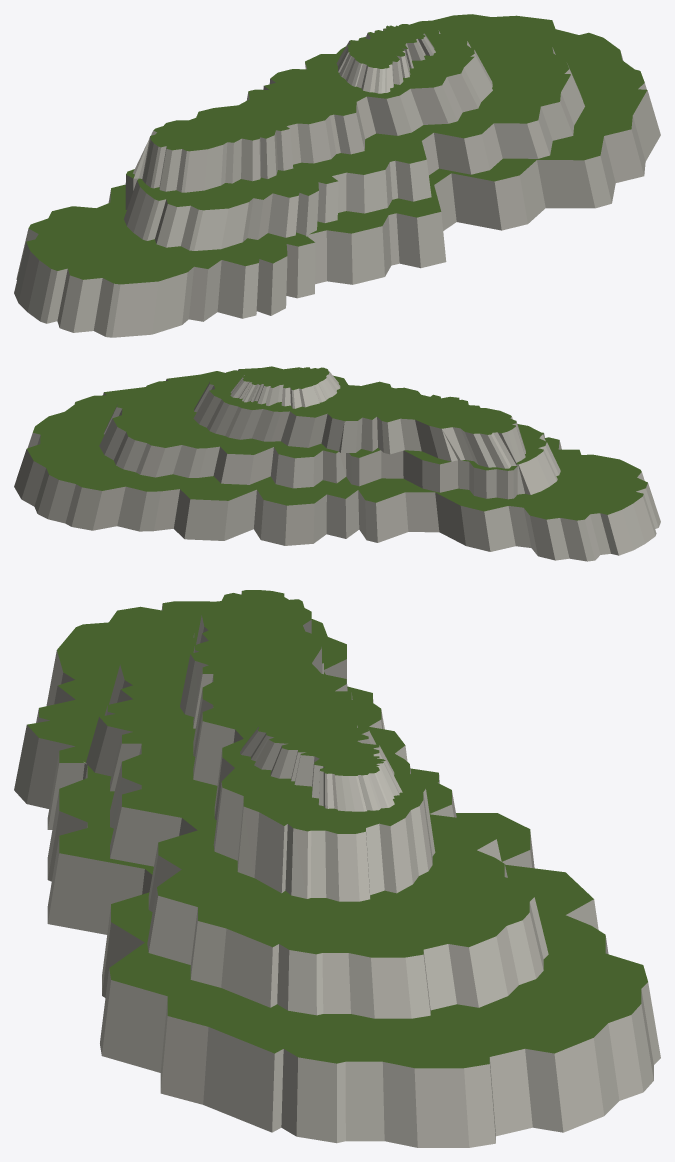
Rendered from Hill_Mound_Rock_01.fbx.
The picture shows the model from 3 angles, top to bottom: view 1: azimuth 30°, elevation 25°; view 2: azimuth 150°, elevation 25°; view 3: azimuth 270°, elevation 25°; orthographic projection. The views are drawn at different scales.
Parts seen in each view (by area): view 1: Model; view 2: Model; view 3: Model.
Part boxes in pixels (bbox=[...]): Model: bbox=[14, 14, 660, 337]; Model: bbox=[14, 366, 660, 561]; Model: bbox=[14, 590, 660, 1147].
Size of the model in its own units: 8330 by 1626 by 4687.
